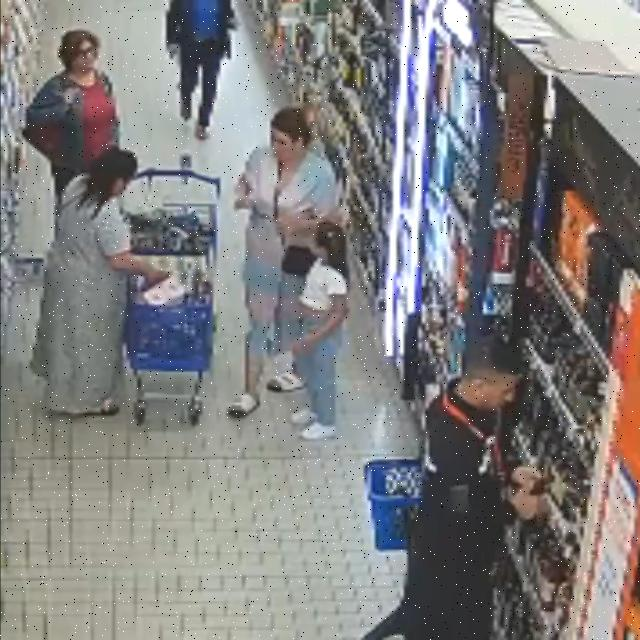article: (531, 476, 555, 495)
bags: (282, 246, 317, 277)
hands: (510, 488, 542, 520), (511, 466, 542, 490), (277, 213, 304, 237), (235, 176, 252, 209), (145, 268, 171, 287), (291, 338, 312, 356), (63, 88, 78, 106), (168, 44, 180, 59)
person: (365, 340, 542, 639), (32, 147, 167, 415), (229, 107, 338, 417), (26, 30, 118, 203), (292, 221, 348, 440), (166, 0, 236, 139)
